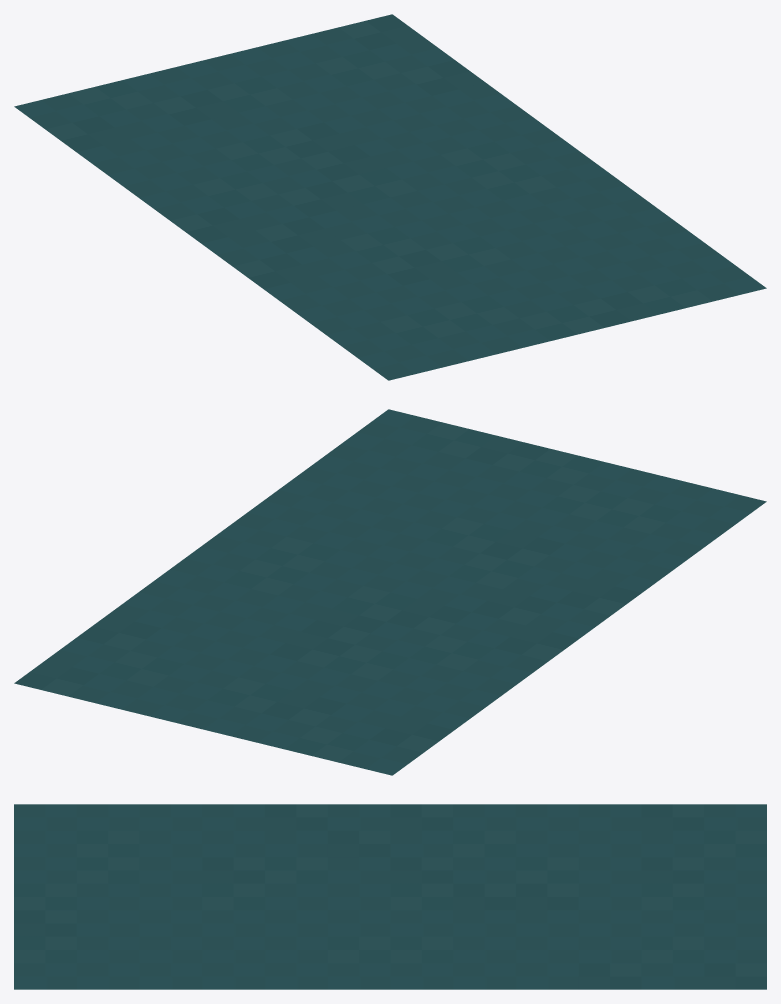
The model's file is Grass (merge).fbx.
3 views of the same model, one above another, from view 1: azimuth 30°, elevation 25°; view 2: azimuth 150°, elevation 25°; view 3: azimuth 270°, elevation 25° (orthographic).
Visible parts, largest first — view 1: Ground_0401; view 2: Ground_0401; view 3: Ground_0401.
Boxes of the visible parts, x1,y1,x2,y2 form: Ground_0401: (14, 14, 766, 380); Ground_0401: (14, 409, 766, 775); Ground_0401: (14, 804, 766, 989).
Bounding box in the file's own units: 14 × 1.47e-15 × 24.
Materials: 3 (3 with a texture image).
